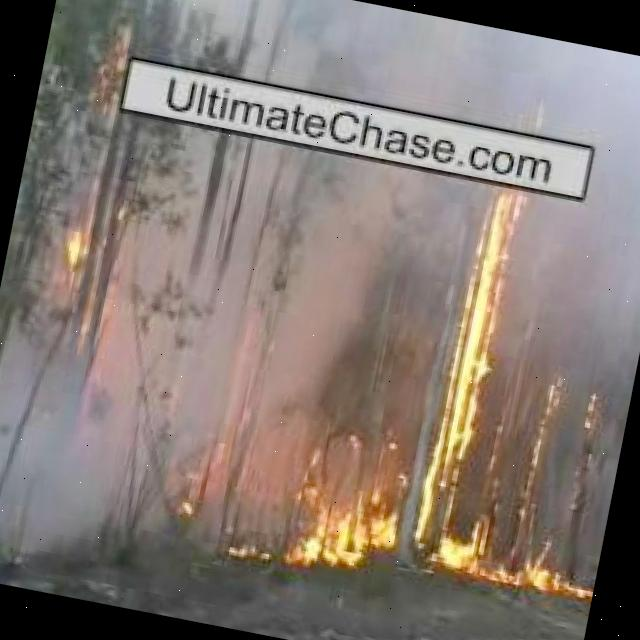fire: (292, 479, 604, 614), (444, 196, 526, 502), (88, 30, 144, 120), (521, 380, 564, 484), (165, 461, 212, 525), (54, 210, 96, 272), (578, 388, 608, 432)
